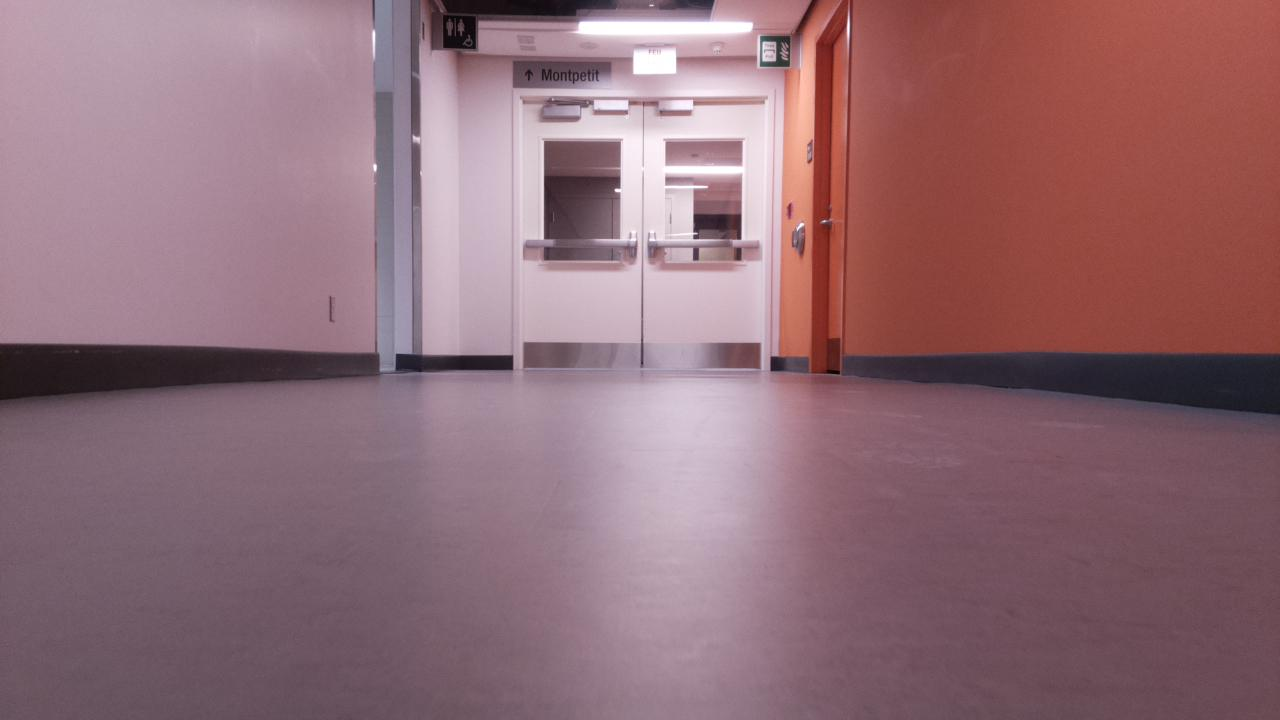door: (525, 103, 762, 368)
sign: (443, 14, 475, 47), (761, 36, 788, 65)
